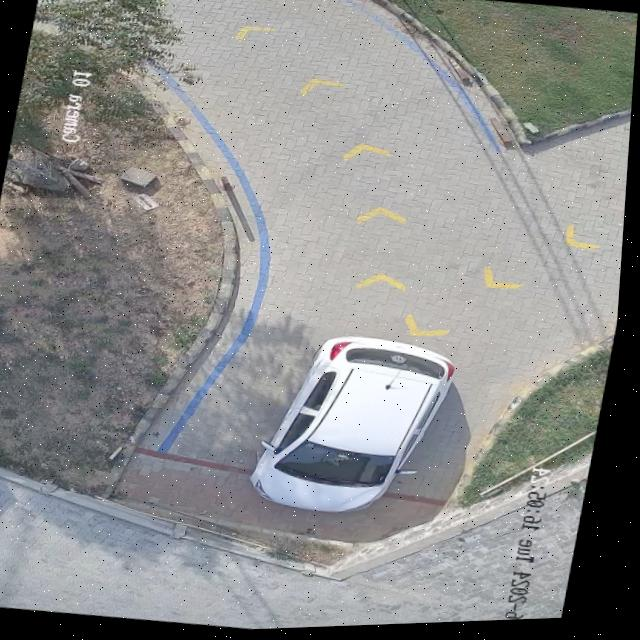car: (255, 338, 458, 515)
